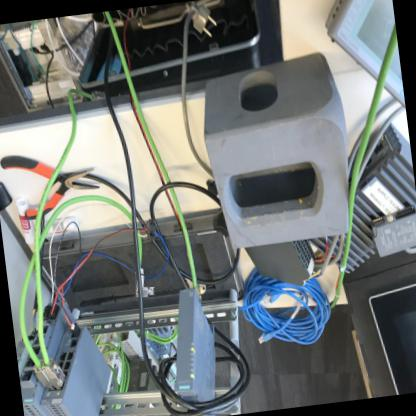CornerCasting: (192, 47, 360, 251)
